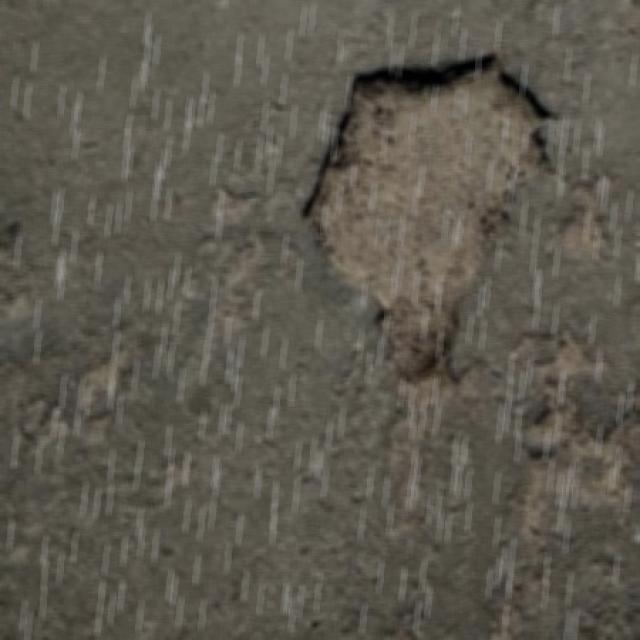road-pothole: (295, 49, 563, 394)
